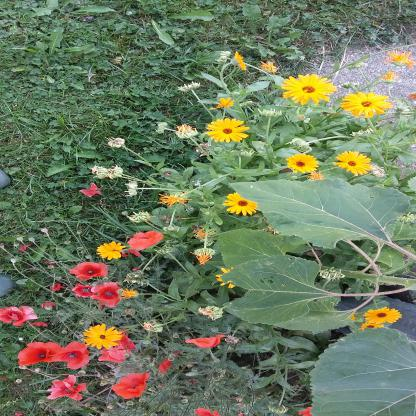marigold: (74, 77, 105, 138), (91, 22, 118, 78), (190, 150, 216, 192), (323, 294, 350, 334), (118, 166, 143, 209), (151, 43, 177, 84), (266, 163, 288, 202), (239, 287, 260, 321), (153, 97, 173, 132), (308, 11, 324, 53), (322, 27, 333, 59)
